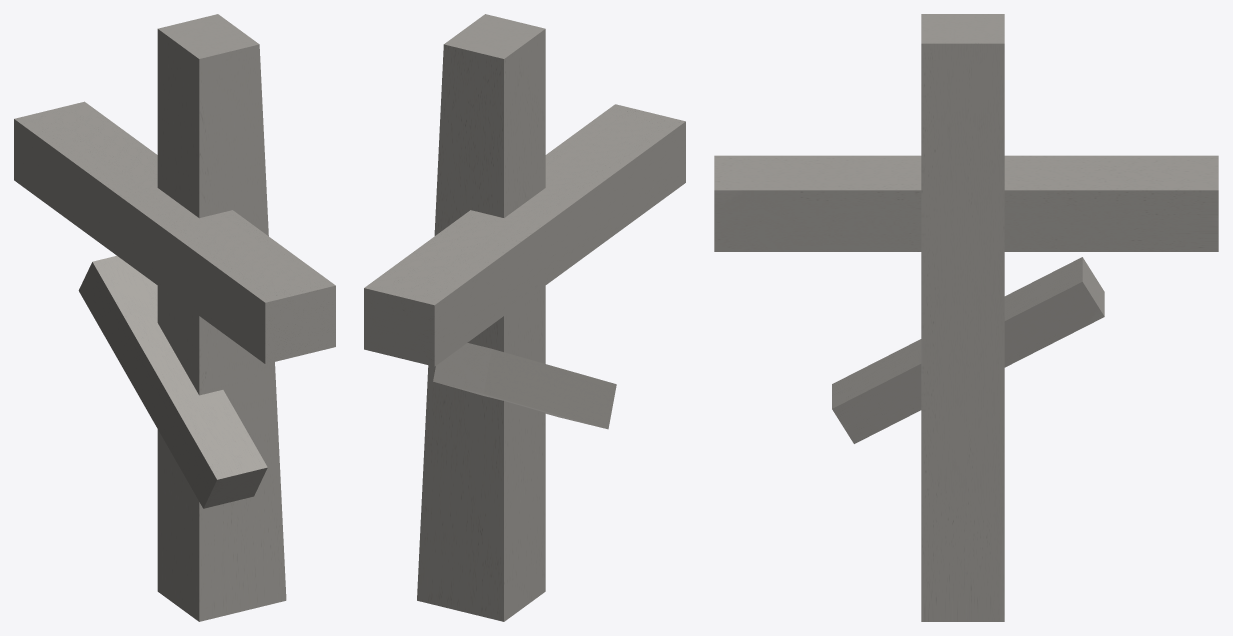
File: tombstone-orthodox.glb
3 renders of one model, left to right at view 1: azimuth 30°, elevation 25°; view 2: azimuth 150°, elevation 25°; view 3: azimuth 270°, elevation 25°, orthographic.
Visible parts, largest first — view 1: Cube; view 2: Cube; view 3: Cube.
Boxes of the visible parts, x1,y1,x2,y2 form: Cube: (14, 14, 335, 621); Cube: (364, 14, 685, 621); Cube: (714, 14, 1218, 621).
Bounding box in the file's own units: 0.00462 × 0.02 × 0.0162.
1 material, 1 textured.
